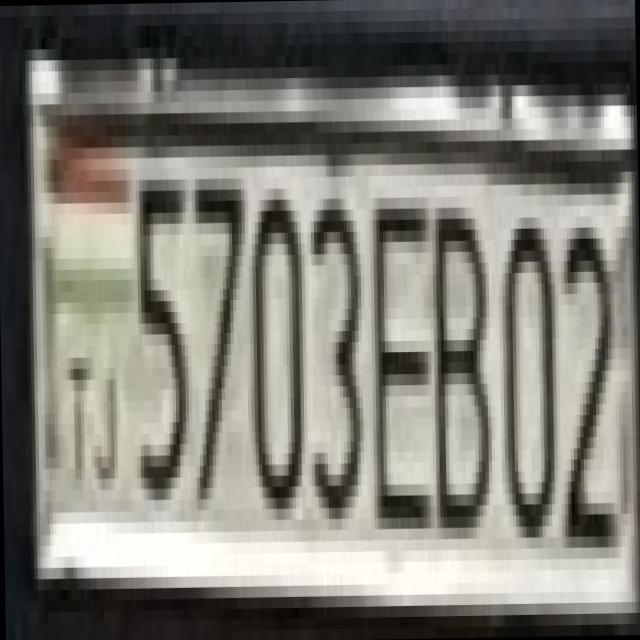0: (493, 194, 555, 526), (243, 177, 306, 498)
2: (552, 204, 614, 536)
3: (302, 176, 364, 508)
5: (125, 146, 187, 489)
7: (187, 145, 246, 499)
B: (418, 185, 496, 528)
E: (358, 163, 434, 518)
